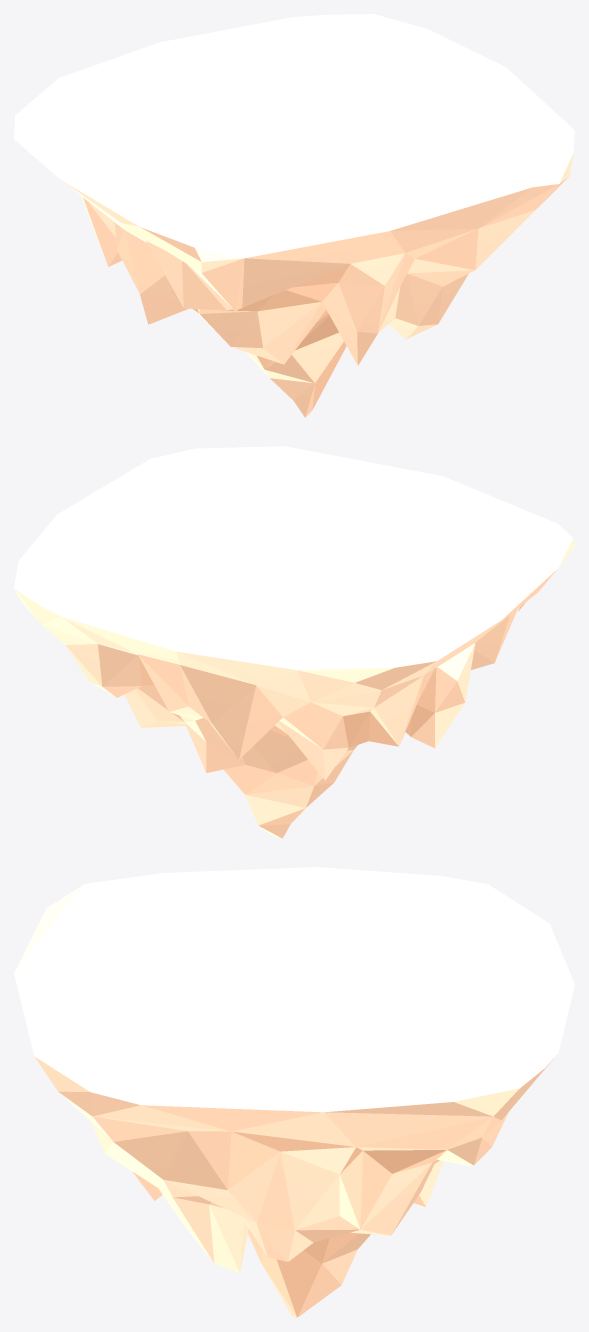
The model's file is FBX_Terrain_Floating_1.fbx.
3 renders of one model, top to bottom at view 1: azimuth 30°, elevation 25°; view 2: azimuth 150°, elevation 25°; view 3: azimuth 270°, elevation 25°, orthographic. The views are drawn at different scales.
Parts seen in each view (by area): view 1: Terrain_Floating_1; view 2: Terrain_Floating_1; view 3: Terrain_Floating_1.
Part boxes in pixels (x1,y1,x2,y2): Terrain_Floating_1: (14,14,574,417); Terrain_Floating_1: (14,446,574,838); Terrain_Floating_1: (14,867,574,1317).
Size of the model in its own units: 372 by 360 by 228.
